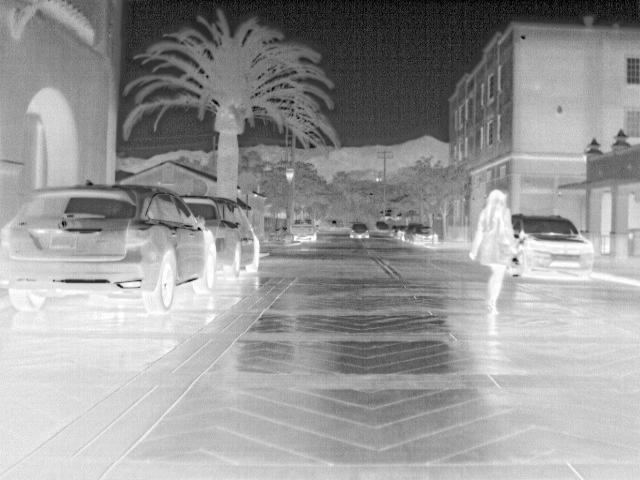car: (2, 184, 220, 309), (179, 192, 261, 278), (508, 212, 595, 276), (286, 218, 320, 241), (404, 224, 438, 244), (347, 220, 371, 241), (397, 225, 412, 238), (376, 222, 391, 234)
person: (465, 188, 514, 320)
